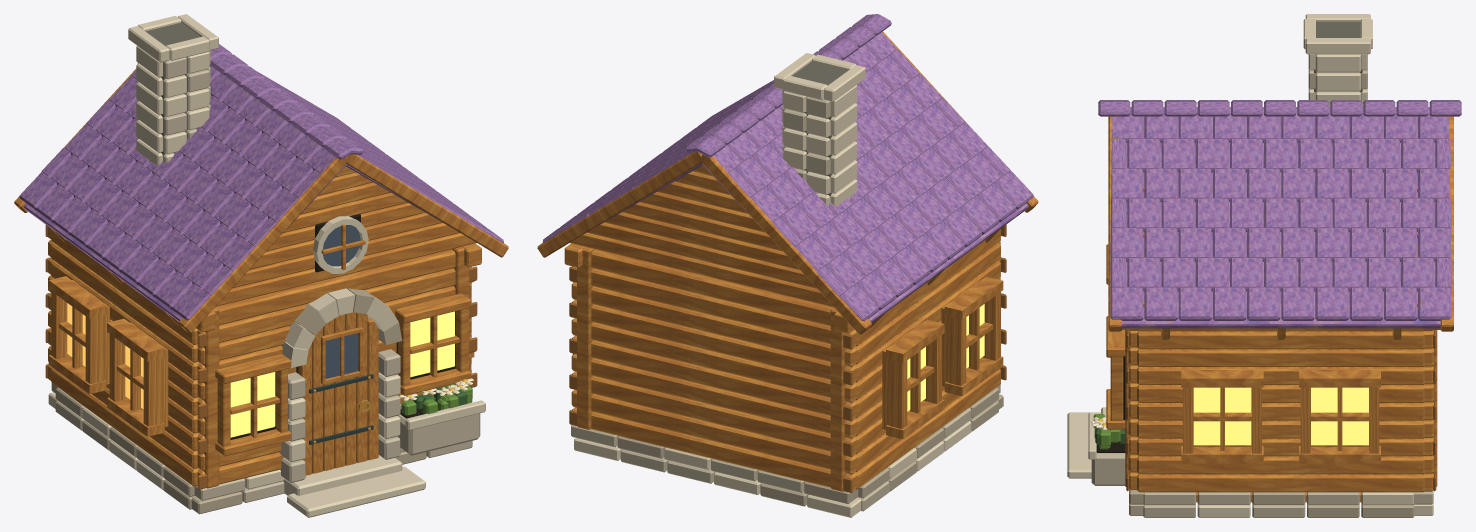
3 renders of one model, left to right at view 1: azimuth 30°, elevation 25°; view 2: azimuth 150°, elevation 25°; view 3: azimuth 270°, elevation 25°, orthographic.
Parts seen in each view (by area): view 1: Logs__cottage_oak, Roof__cottage_roof, Roof__cottage_roof_light, Entry__cottage_stone_light, Timber__cottage_timber, Logs__cottage_oak_light, Chimney__cottage_stone_light, Roof__cottage_roof_dark, Windows__cottage_oak_light, Windows__cottage_timber, Windows__cottage_window, Masonry__cottage_stone_warm (+32 smaller); view 2: Logs__cottage_oak, Roof__cottage_roof, Roof__cottage_roof_light, Timber__cottage_timber, Roof__cottage_roof_dark, Chimney__cottage_stone_light, Logs__cottage_oak_light, Masonry__cottage_stone_warm, Masonry__cottage_stone, Masonry__cottage_stone_light, Logs__cottage_endgrain, Chimney__cottage_stone (+12 smaller); view 3: Roof__cottage_roof, Logs__cottage_oak, Roof__cottage_roof_dark, Roof__cottage_roof_light, Logs__cottage_oak_light, Chimney__cottage_stone_light, Masonry__cottage_stone, Timber__cottage_timber, Side window warm pane.002, Side window warm pane.003, Masonry__cottage_stone_warm, Masonry__cottage_stone_light (+17 smaller).
Part boxes in pixels (<box>): Logs__cottage_oak: <box>48,166,471,486</box>; Roof__cottage_roof: <box>19,70,486,320</box>; Roof__cottage_roof_light: <box>53,44,481,275</box>; Entry__cottage_stone_light: <box>279,288,425,517</box>; Timber__cottage_timber: <box>14,69,508,488</box>; Logs__cottage_oak_light: <box>53,172,476,484</box>; Chimney__cottage_stone_light: <box>128,14,218,165</box>; Roof__cottage_roof_dark: <box>24,65,503,321</box>; Windows__cottage_oak_light: <box>215,224,470,456</box>; Windows__cottage_timber: <box>217,308,467,446</box>; Windows__cottage_window: <box>230,311,454,437</box>; Masonry__cottage_stone_warm: <box>51,383,426,514</box>; Logs__cottage_oak: <box>571,165,1000,491</box>; Roof__cottage_roof: <box>561,32,1033,321</box>; Roof__cottage_roof_light: <box>620,14,984,297</box>; Timber__cottage_timber: <box>537,31,1038,491</box>; Roof__cottage_roof_dark: <box>543,55,1028,322</box>; Chimney__cottage_stone_light: <box>774,53,865,206</box>; Logs__cottage_oak_light: <box>570,171,1000,471</box>; Masonry__cottage_stone_warm: <box>617,387,1003,506</box>; Masonry__cottage_stone: <box>571,384,1000,511</box>; Masonry__cottage_stone_light: <box>574,421,971,517</box>; Logs__cottage_endgrain: <box>569,224,1006,492</box>; Chimney__cottage_stone: <box>783,97,856,179</box>; Roof__cottage_roof: <box>1110,107,1452,320</box>; Logs__cottage_oak: <box>1128,184,1433,492</box>; Roof__cottage_roof_dark: <box>1110,107,1451,328</box>; Roof__cottage_roof_light: <box>1098,100,1461,291</box>; Logs__cottage_oak_light: <box>1128,231,1424,489</box>; Chimney__cottage_stone_light: <box>1303,14,1372,106</box>; Masonry__cottage_stone: <box>1129,490,1433,517</box>; Timber__cottage_timber: <box>1108,116,1453,486</box>; Side window warm pane.002: <box>1193,387,1251,445</box>; Side window warm pane.003: <box>1311,387,1368,445</box>; Masonry__cottage_stone_warm: <box>1129,489,1414,517</box>; Masonry__cottage_stone_light: <box>1197,492,1433,517</box>.
Bounding box in the file's own units: 4.54 × 5.17 × 4.7.
Materials: 20 (6 with a texture image).
